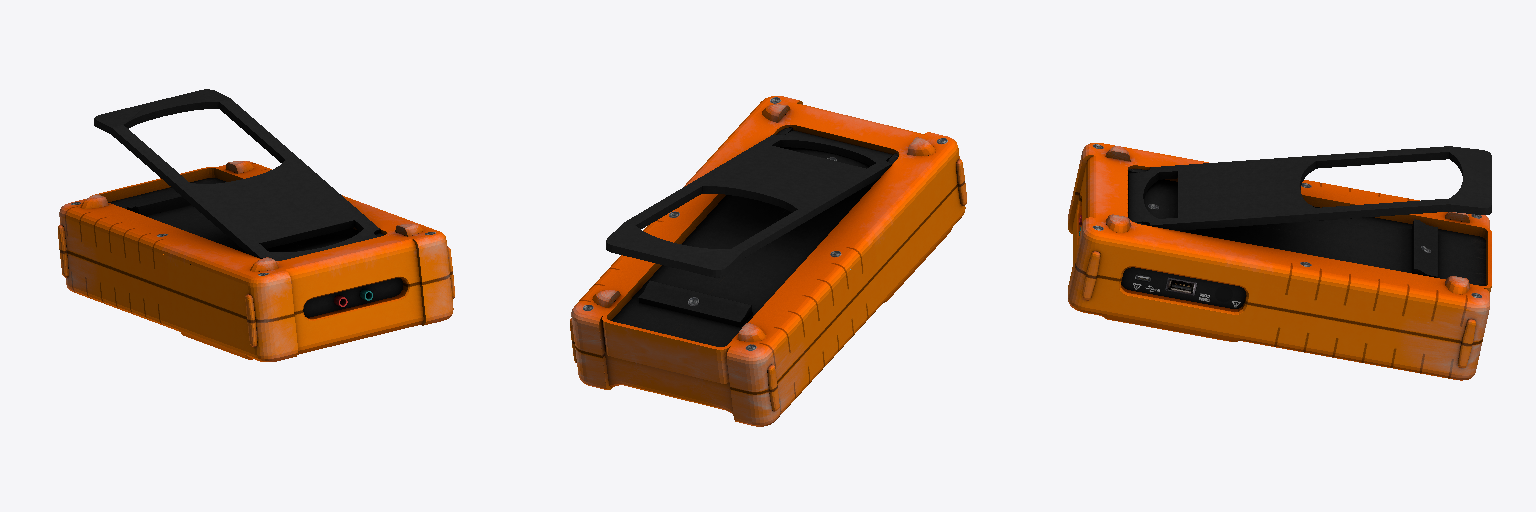
3 renders of one model, left to right at view 1: azimuth 30°, elevation 25°; view 2: azimuth 150°, elevation 25°; view 3: azimuth 270°, elevation 25°, orthographic.
Visible parts, largest first — view 1: U1602B_U1602B_0_U1602B_U1602B_0.002; view 2: U1602B_U1602B_0_U1602B_U1602B_0.002; view 3: U1602B_U1602B_0_U1602B_U1602B_0.002.
Part boxes in pixels (x1,y1,x2,y2): U1602B_U1602B_0_U1602B_U1602B_0.002: (58,89,454,361); U1602B_U1602B_0_U1602B_U1602B_0.002: (570,96,966,426); U1602B_U1602B_0_U1602B_U1602B_0.002: (1068,143,1491,380).
Size of the model in its own units: 0.0228 by 0.0173 by 0.0412.
Materials: 1 (1 with a texture image).